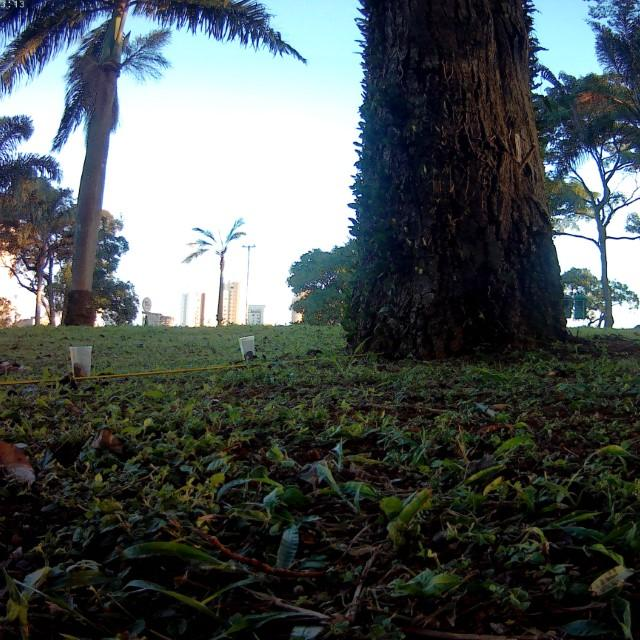arvore: (351, 0, 575, 362)
